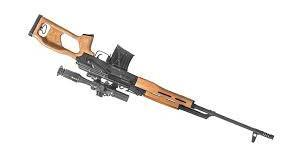larga: (28, 13, 275, 143)
